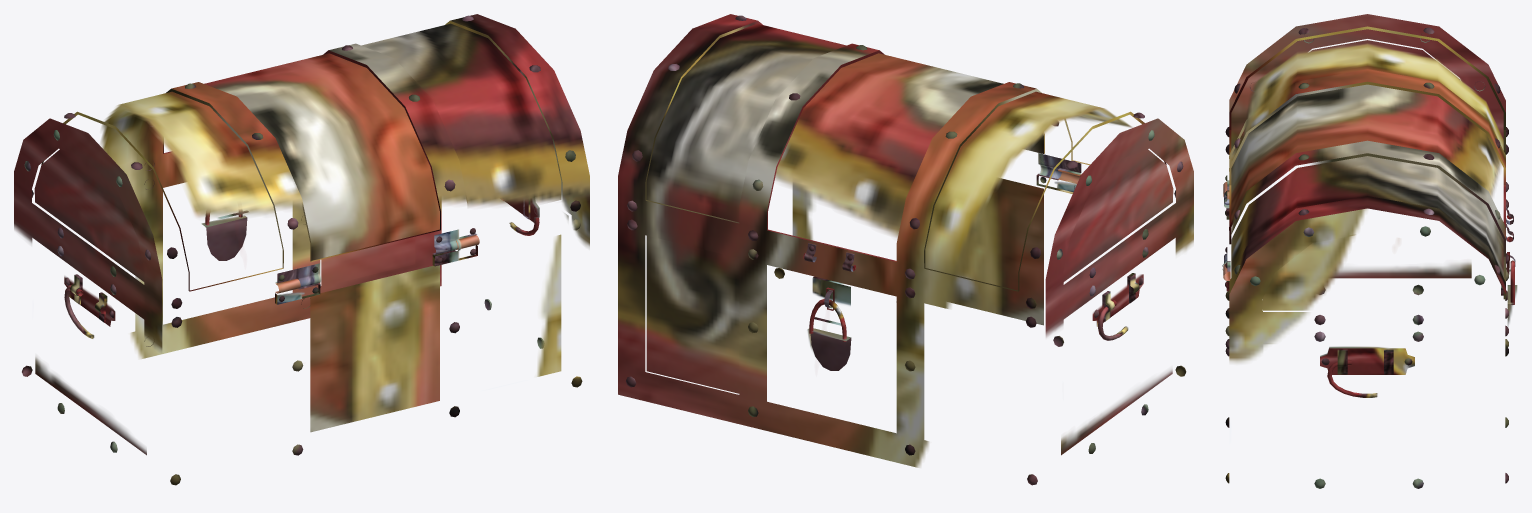
The model's file is MedievalChest.fbx.
The picture shows the model from 3 angles, left to right: view 1: azimuth 30°, elevation 25°; view 2: azimuth 150°, elevation 25°; view 3: azimuth 270°, elevation 25°; orthographic projection. The views are drawn at different scales.
Visible parts, largest first — view 1: Cube.001, Cube; view 2: Cube.001, Cube; view 3: Cube.001, Cube.
Boxes of the visible parts, bbox=[...] form: Cube.001: bbox=[14, 14, 589, 297]; Cube: bbox=[14, 151, 589, 485]; Cube.001: bbox=[618, 14, 1193, 297]; Cube: bbox=[618, 153, 1193, 485]; Cube.001: bbox=[1229, 14, 1505, 311]; Cube: bbox=[1222, 117, 1517, 488].
Bounding box in the file's own units: 179 × 123 × 113.
